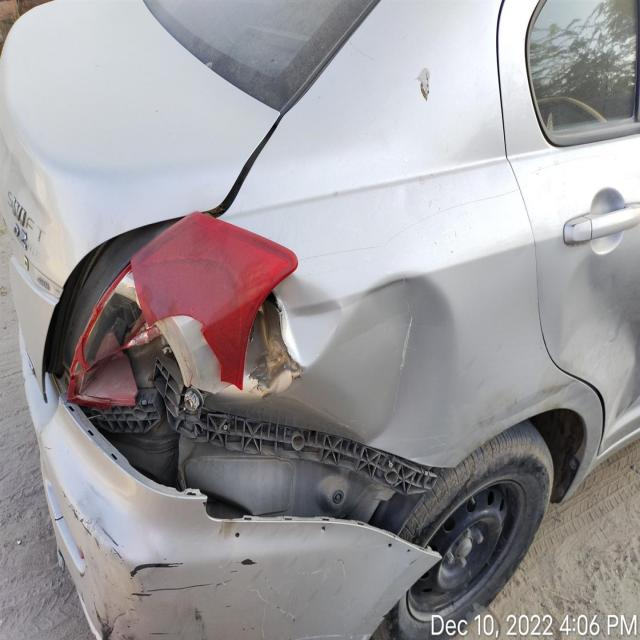damage: (72, 222, 282, 504), (279, 269, 462, 437), (541, 248, 640, 439), (96, 533, 270, 640), (254, 421, 446, 516)
